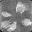people: (15, 1, 26, 14), (21, 18, 32, 26), (1, 21, 10, 29), (2, 11, 12, 18), (9, 21, 16, 31)
